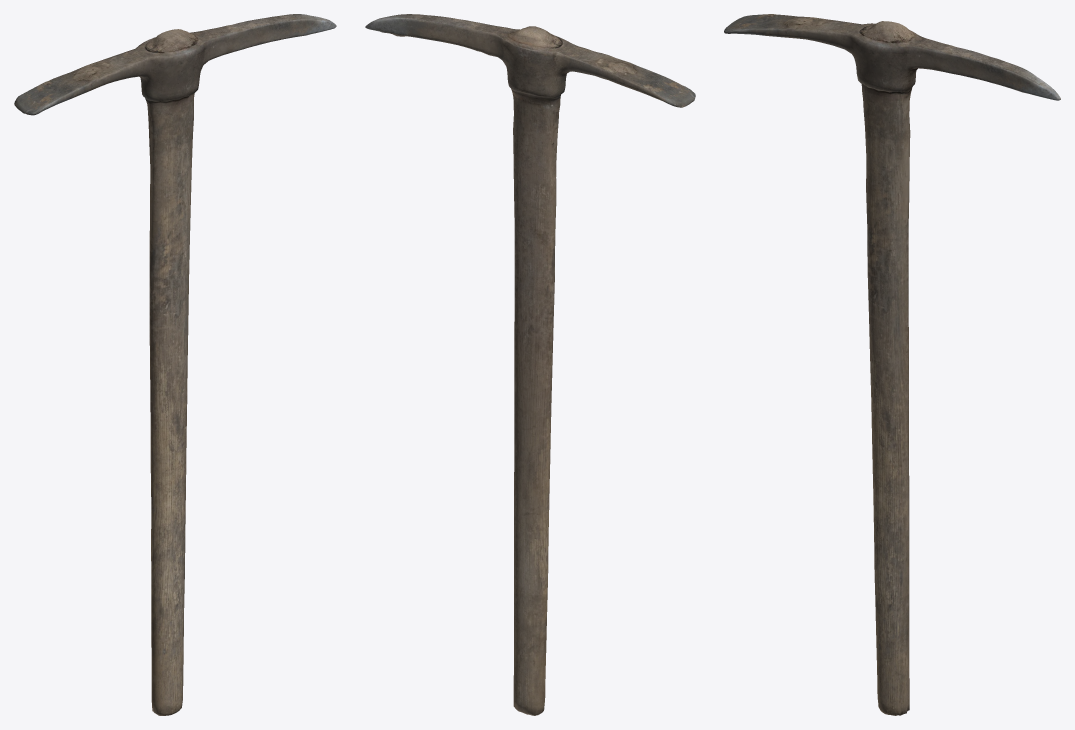
File: picke_dirty_01.glb
The picture shows the model from 3 angles, left to right: view 1: azimuth 30°, elevation 25°; view 2: azimuth 150°, elevation 25°; view 3: azimuth 330°, elevation 25°; orthographic projection.
Parts seen in each view (by area): view 1: picke_dirty_01; view 2: picke_dirty_01; view 3: picke_dirty_01.
Boxes of the visible parts, <box> form: picke_dirty_01: <box>14,14,336,715</box>; picke_dirty_01: <box>365,14,695,715</box>; picke_dirty_01: <box>724,14,1060,715</box>.
Size of the model in its own units: 0.5498 by 1.12 by 0.0691.
1 material, 1 textured.
